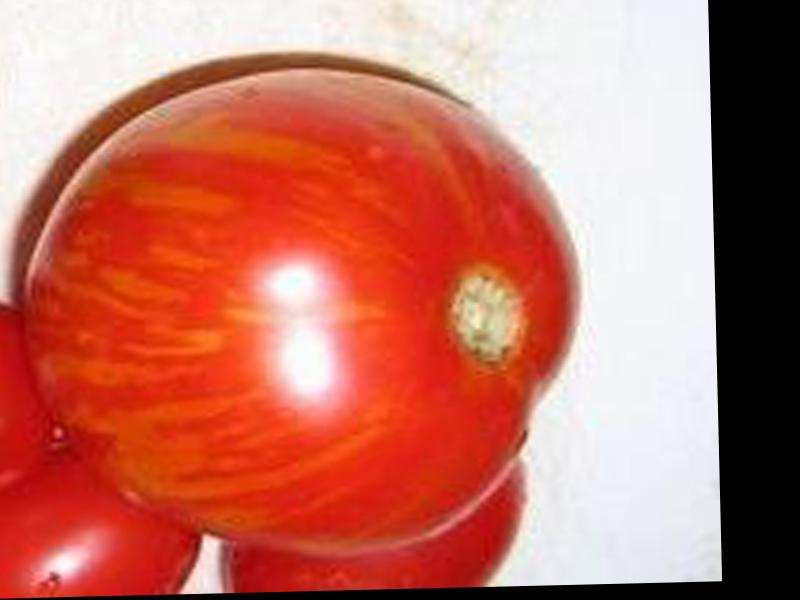Tomato: (14, 61, 593, 565)
